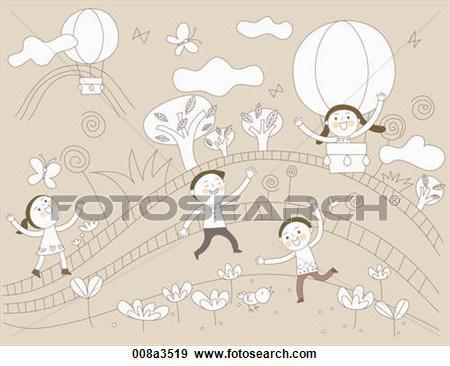bird: (236, 286, 278, 312)
person: (171, 166, 251, 266), (253, 210, 339, 297), (7, 192, 87, 284), (287, 96, 388, 145)
